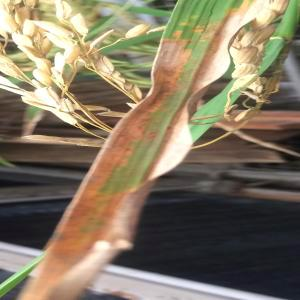2 BacterialBlight: (145, 1, 222, 180)
